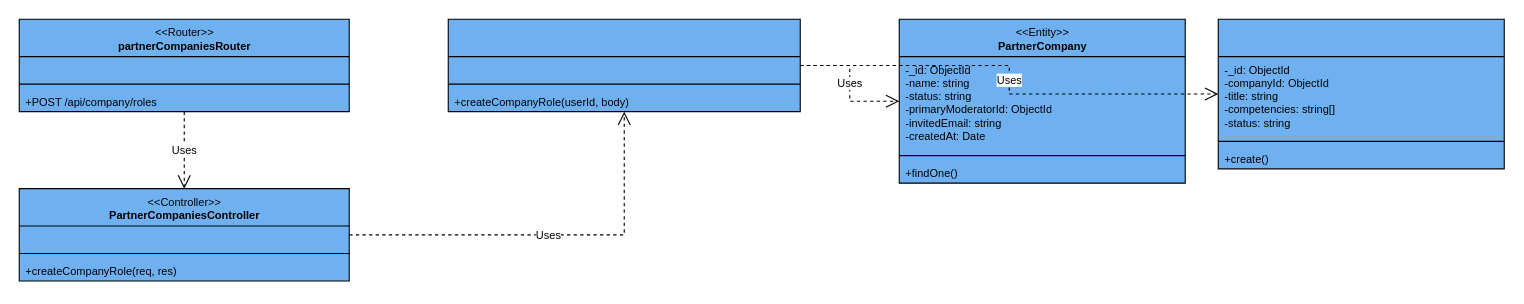
Some shapes in this 1524 by 304 pixel diagram are drawn without their labels. The box of each missing label's shape, as (x1, y1, x2, y2) in pixels:
<<Entity>> CompanyRole: (1217, 18, 1504, 169)
<<Service>> PartnerCompaniesService: (447, 18, 800, 112)
